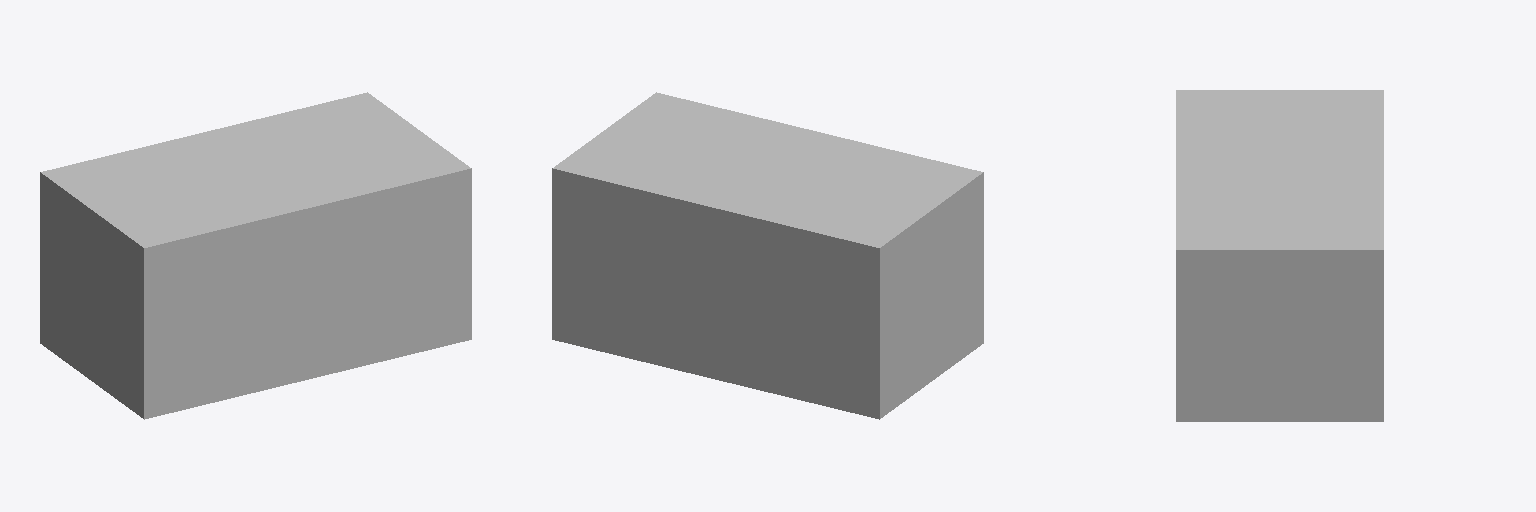
Rendered from aucman_hightech_displaystand_cable_blue.obj.
The picture shows the model from 3 angles: view 1: azimuth 30°, elevation 25°; view 2: azimuth 150°, elevation 25°; view 3: azimuth 270°, elevation 25°; orthographic projection.
Visible parts, largest first — view 1: co_culling; view 2: co_culling; view 3: co_culling.
Boxes of the visible parts, x1,y1,x2,y2 form: co_culling: [40, 92, 471, 419]; co_culling: [552, 92, 983, 419]; co_culling: [1176, 90, 1383, 421].
Bounding box in the file's own units: 40 × 20 × 22.